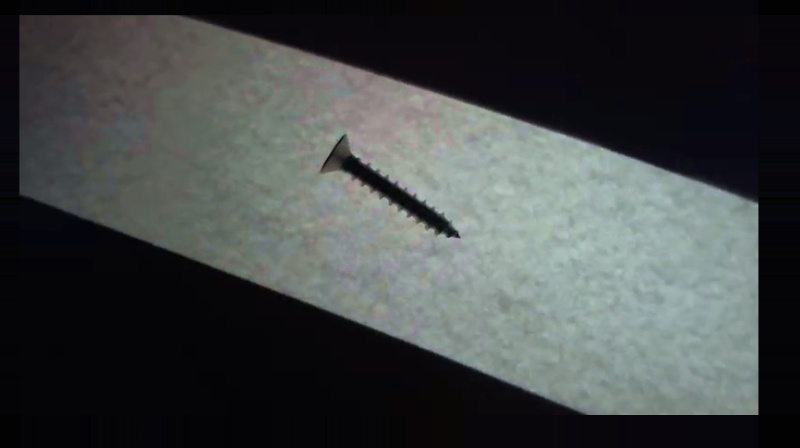S001: (319, 132, 465, 239)
